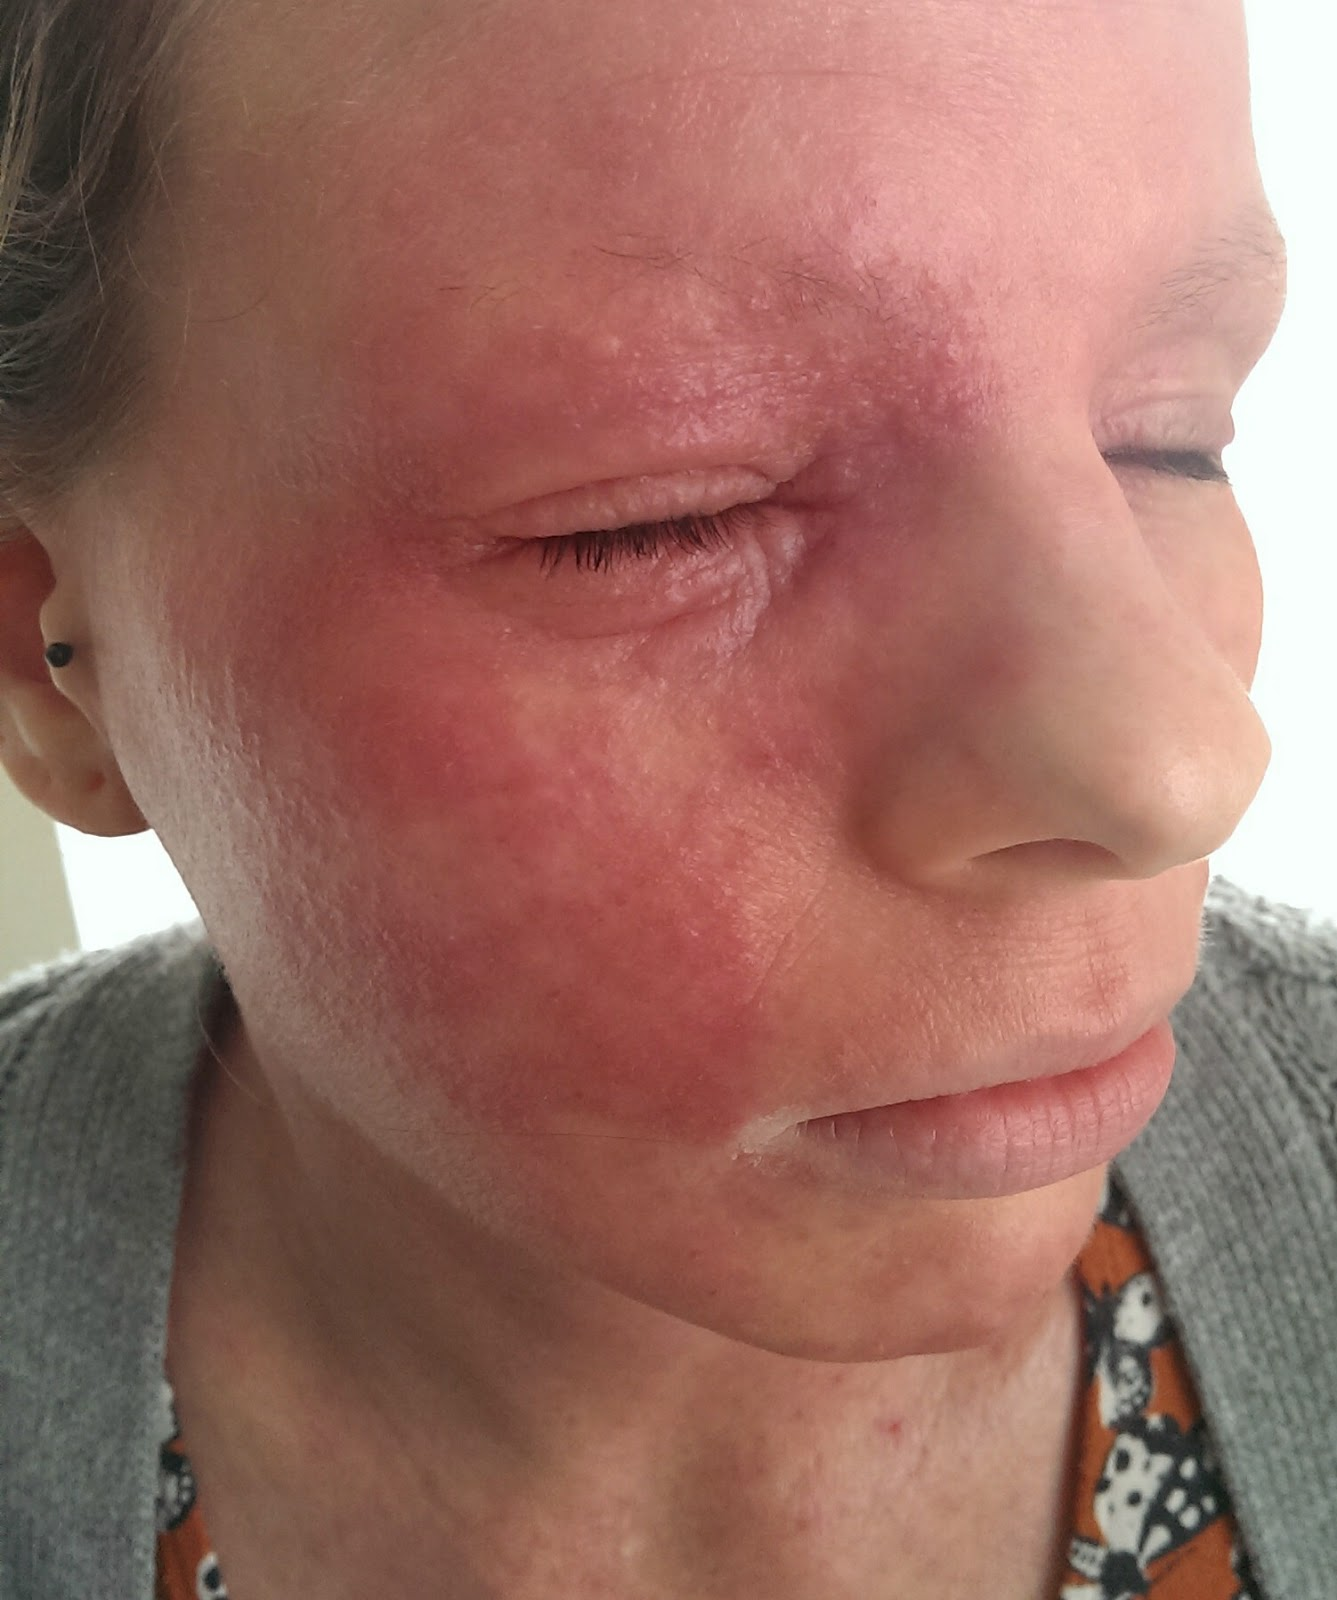Eksim: (135, 575, 812, 1180), (272, 27, 1010, 565)
